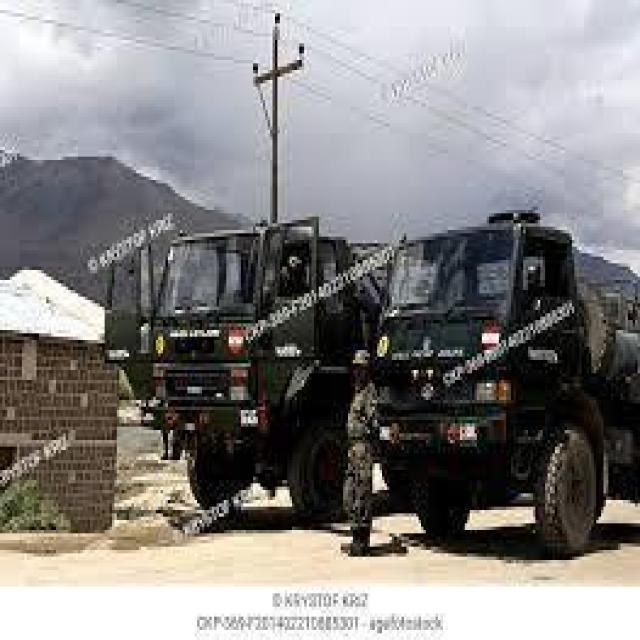Tanks: (99, 173, 320, 527), (374, 223, 573, 557)
